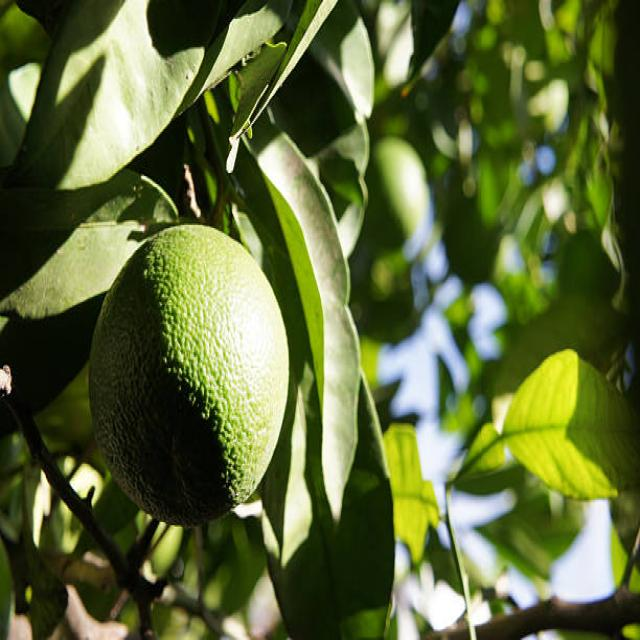Unripe: (88, 226, 288, 524)
